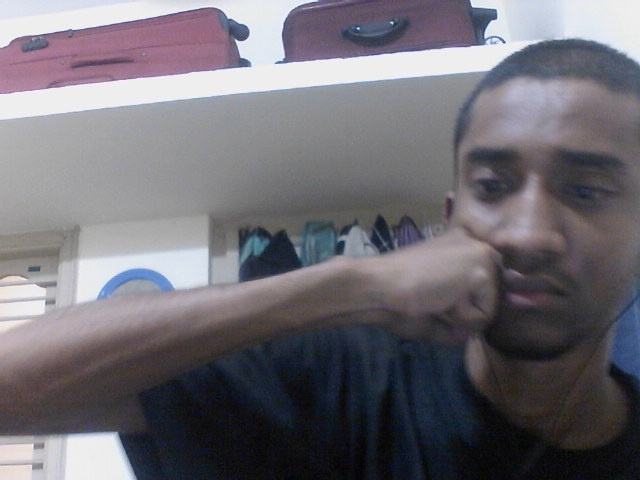hand: (348, 226, 507, 349)
